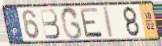6: (21, 9, 40, 41)
8: (122, 6, 142, 39)
B: (39, 7, 62, 40)
E: (79, 7, 104, 40)
G: (59, 6, 84, 41)
I: (103, 5, 115, 40)
